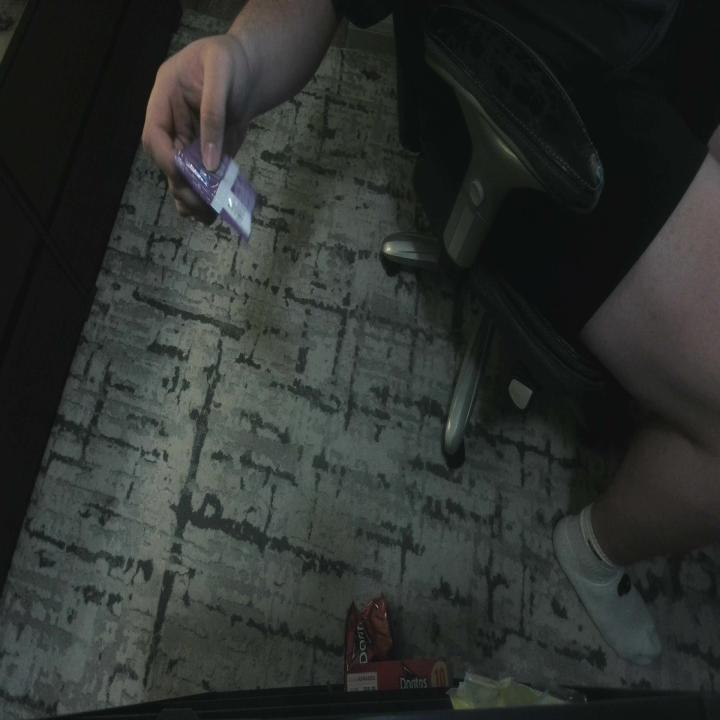Gummy: (174, 132, 266, 245)
